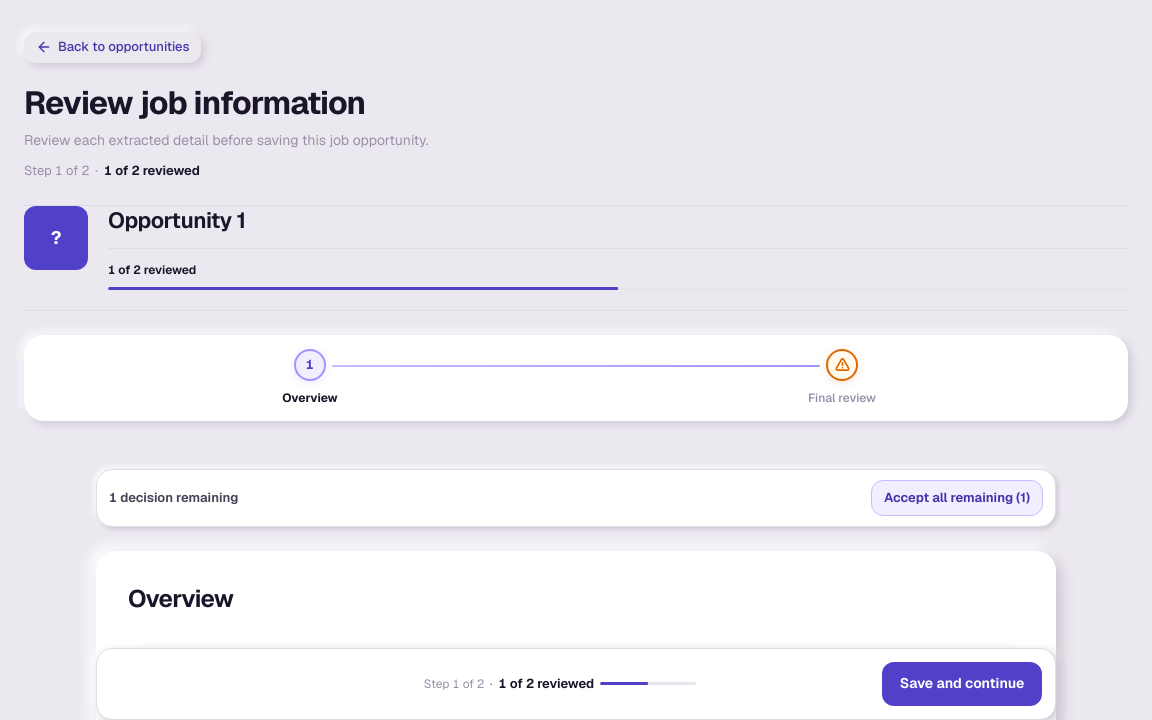
Test case: ReviewPage › keeps dynamic steps visible and supports direct final-step selection
Expected: the button "1 Overview" is shown, [44,349,576,407]
Click the button "Final review": (842, 378) [576,349,1108,407]
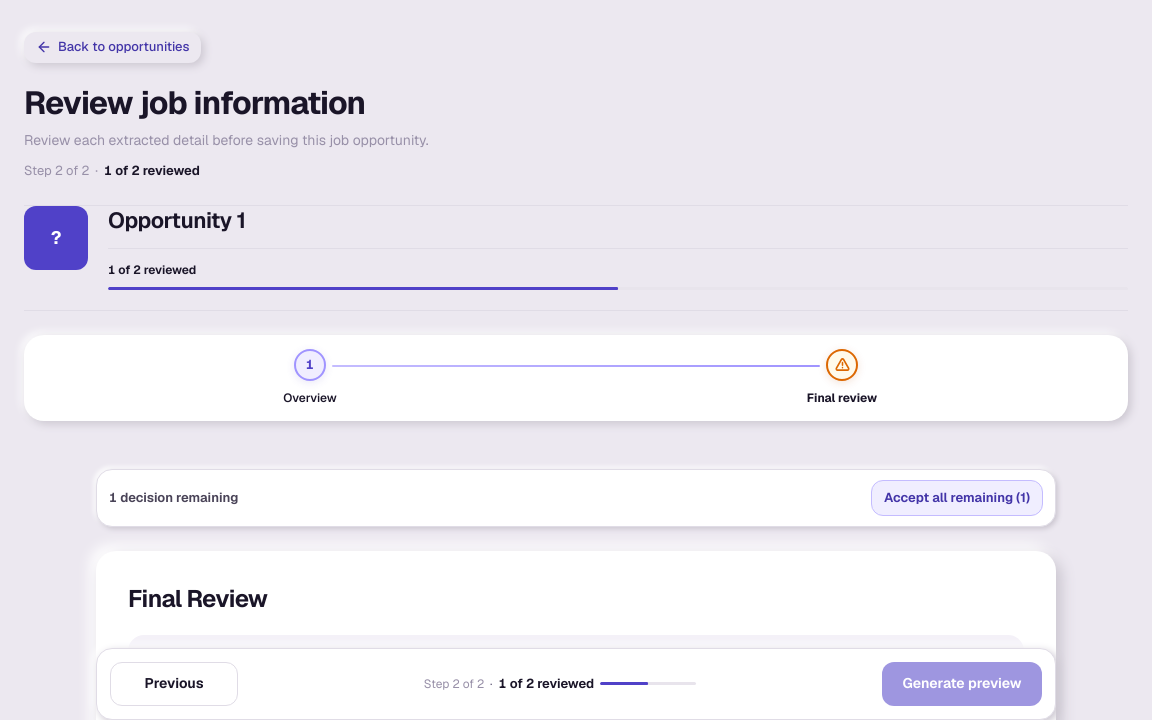
Expected: the text "Step 2 of 2" is shown, [24,161,89,181]
Expected: the text "Decisions remaining" is shown, [144,647,273,668]
